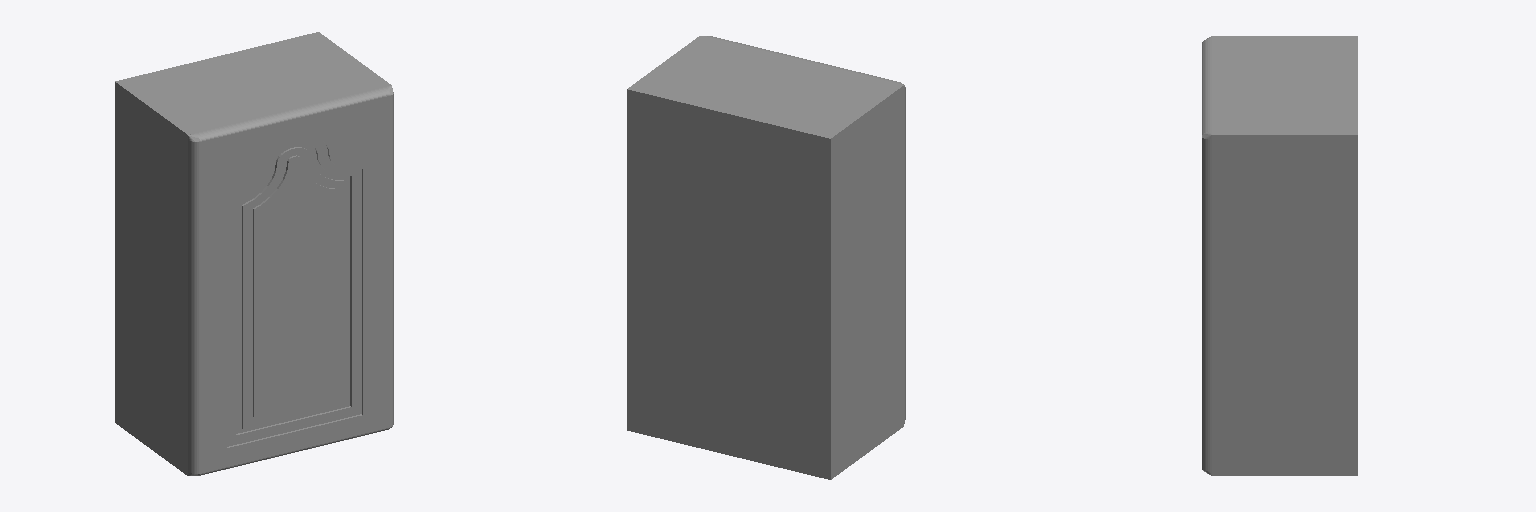
File: single-wall-unit-450.obj
3 views of the same model, side by side, from view 1: azimuth 30°, elevation 25°; view 2: azimuth 150°, elevation 25°; view 3: azimuth 270°, elevation 25° (orthographic).
Visible parts, largest first — view 1: Cube.003_Cube.008, Cube.002_Cube.004, Cube_Cube.002; view 2: Cube_Cube.002, Cube.002_Cube.004, Cube.001_Cube.003, Cube.003_Cube.008; view 3: Cube.001_Cube.003, Cube_Cube.002, Cube.003_Cube.008.
Part boxes in pixels (left/top/right/bottom): Cube.003_Cube.008: left=188, top=85, right=393, bottom=475; Cube.002_Cube.004: left=115, top=80, right=194, bottom=475; Cube_Cube.002: left=123, top=34, right=383, bottom=132; Cube_Cube.002: left=634, top=37, right=895, bottom=477; Cube.002_Cube.004: left=824, top=84, right=903, bottom=479; Cube.001_Cube.003: left=627, top=36, right=706, bottom=431; Cube.003_Cube.008: left=704, top=36, right=905, bottom=423; Cube.001_Cube.003: left=1212, top=132, right=1357, bottom=475; Cube_Cube.002: left=1212, top=39, right=1357, bottom=131; Cube.003_Cube.008: left=1202, top=36, right=1211, bottom=475.
Bounding box in the file's own units: 90 × 144 × 60.